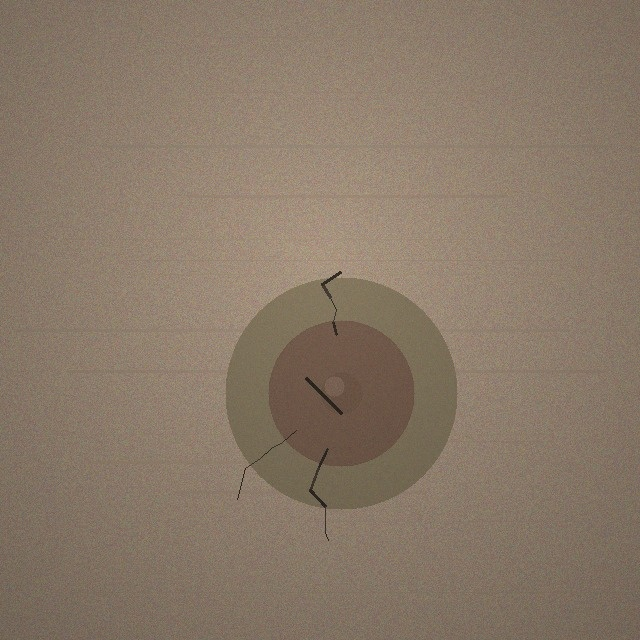crack: (225, 277, 457, 509)
